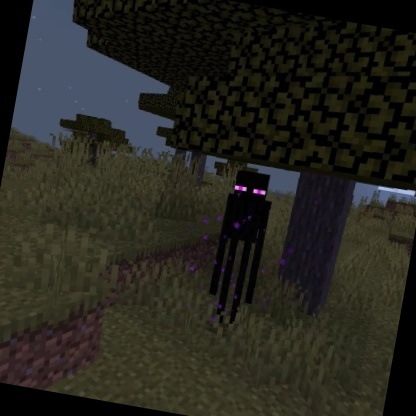enderman: (199, 164, 282, 331)
